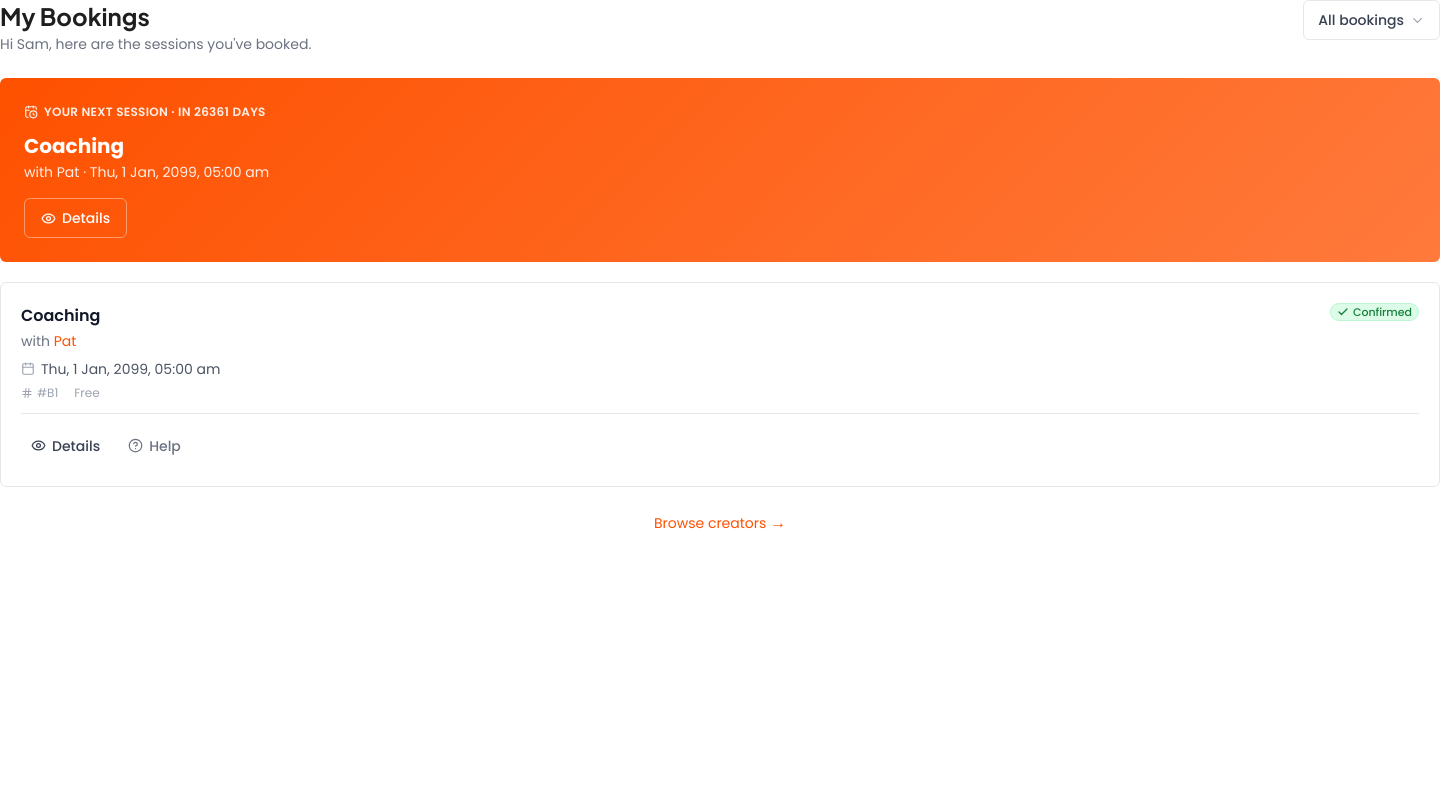
Scenario: reschedule hidden in Details when flag off
Click the button "Details" below "Your next session ·": (76, 218) [24,198,127,238]
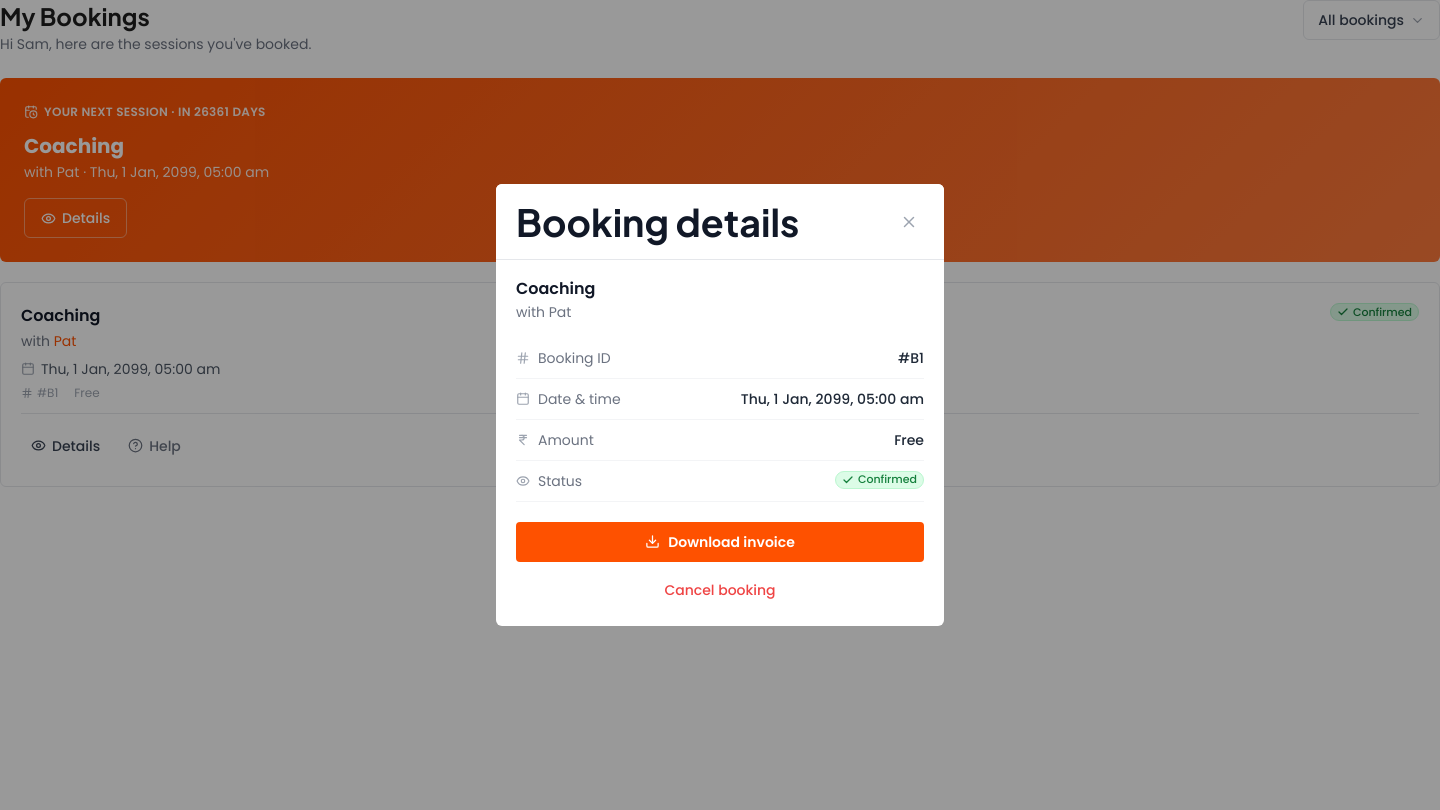
Expected: the heading "Booking details" is shown, [516,200,799,243]
